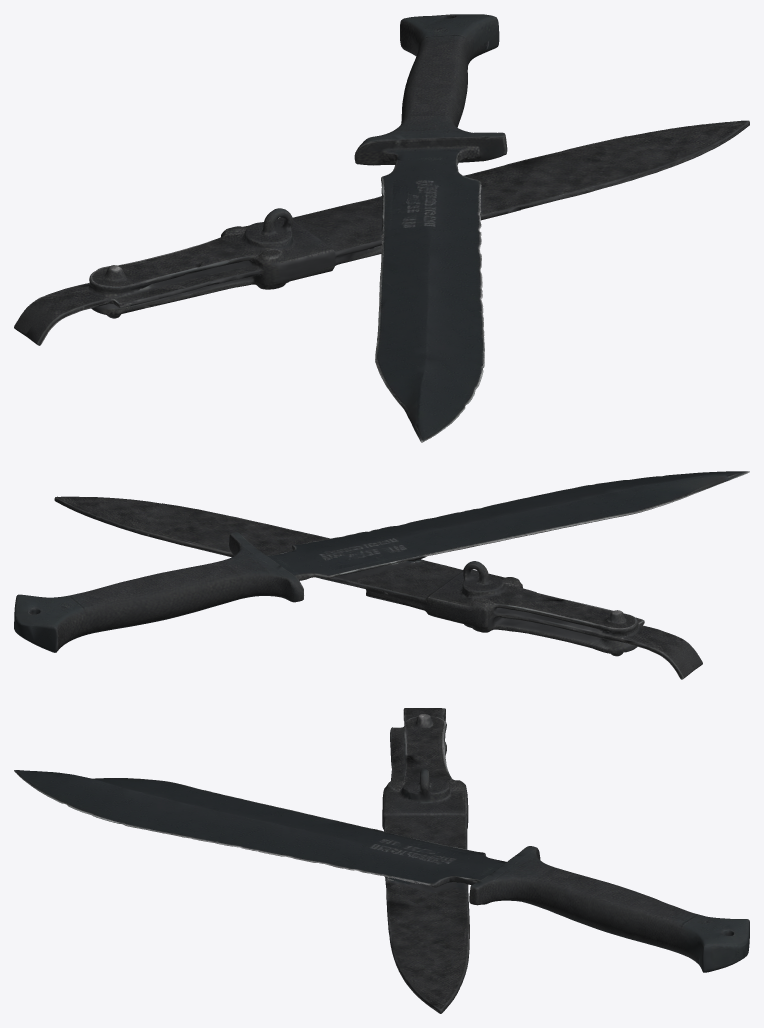
The model's file is couteau-combat.glb.
3 renders of one model, top to bottom at view 1: azimuth 30°, elevation 25°; view 2: azimuth 150°, elevation 25°; view 3: azimuth 270°, elevation 25°, orthographic. The views are drawn at different scales.
Visible parts, largest first — view 1: Mesh_0; view 2: Mesh_0; view 3: Mesh_0.
Boxes of the visible parts, left/top/right/bottom form: Mesh_0: left=14, top=14, right=749, bottom=442; Mesh_0: left=14, top=471, right=749, bottom=679; Mesh_0: left=14, top=708, right=749, bottom=1013.
Size of the model in its own units: 3.89 by 0.35 by 3.8.
Materials: 1 (1 with a texture image).
